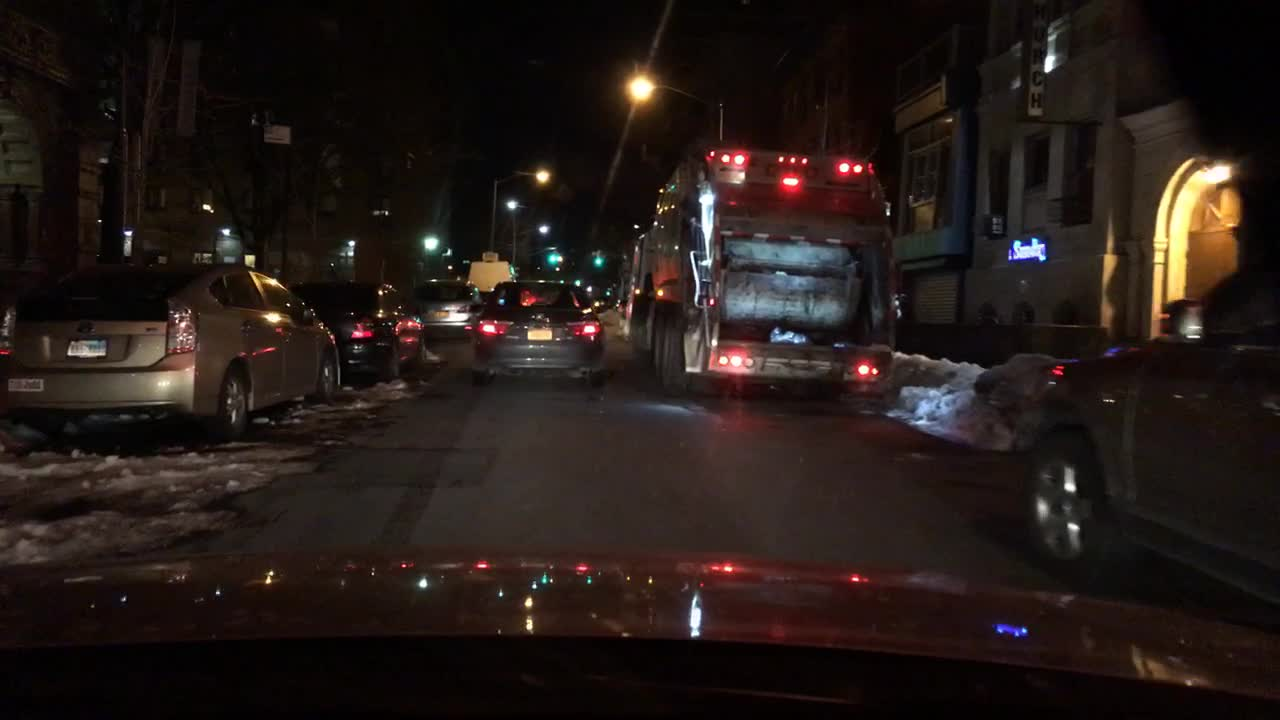bus: (465, 250, 518, 294)
car: (1006, 262, 1277, 626), (0, 256, 344, 445), (468, 278, 607, 391), (288, 275, 426, 382), (406, 277, 480, 344)
traffic light: (421, 231, 438, 252), (545, 251, 561, 269), (592, 252, 604, 266)
truck: (622, 146, 904, 401)
